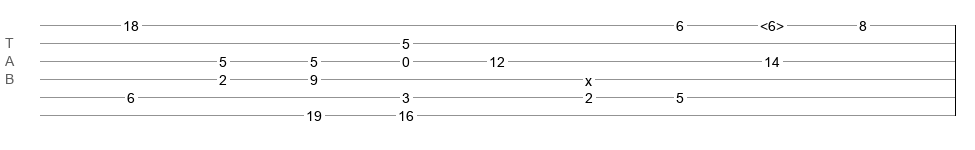0: (402, 54, 410, 64)
12: (489, 54, 505, 64)
14: (764, 54, 780, 64)
16: (398, 108, 414, 118)
18: (123, 18, 139, 28)
19: (306, 108, 322, 118)
2: (219, 72, 227, 82), (585, 90, 593, 100)
3: (402, 90, 410, 100)
5: (219, 54, 227, 64), (310, 54, 318, 64), (402, 36, 410, 46), (676, 90, 684, 100)
6: (127, 90, 135, 100), (676, 18, 684, 28)
8: (859, 18, 867, 28)
9: (310, 72, 318, 82)
harmonic: (760, 18, 784, 28)
x: (585, 73, 592, 81)
